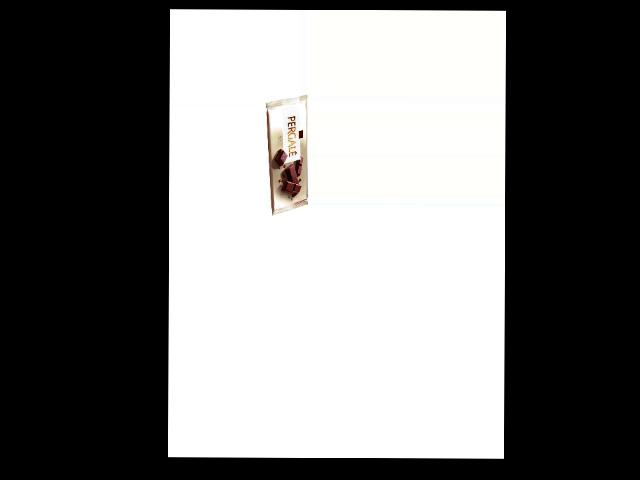chocolate: (266, 93, 308, 217)
